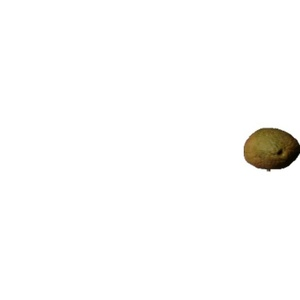mamão: (242, 122, 299, 173)
